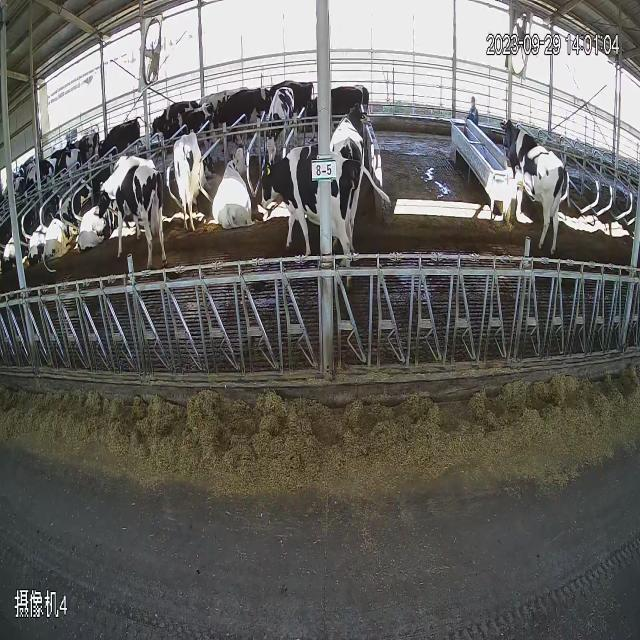feeding: (265, 76, 296, 168)
lying down: (213, 140, 257, 244)
standing: (496, 106, 578, 264), (260, 140, 360, 268), (97, 172, 167, 288), (48, 174, 94, 266), (170, 128, 209, 232), (207, 84, 270, 131), (99, 126, 148, 160)
